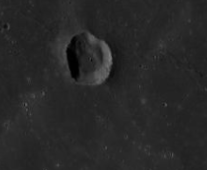crater: (37, 14, 143, 132)
